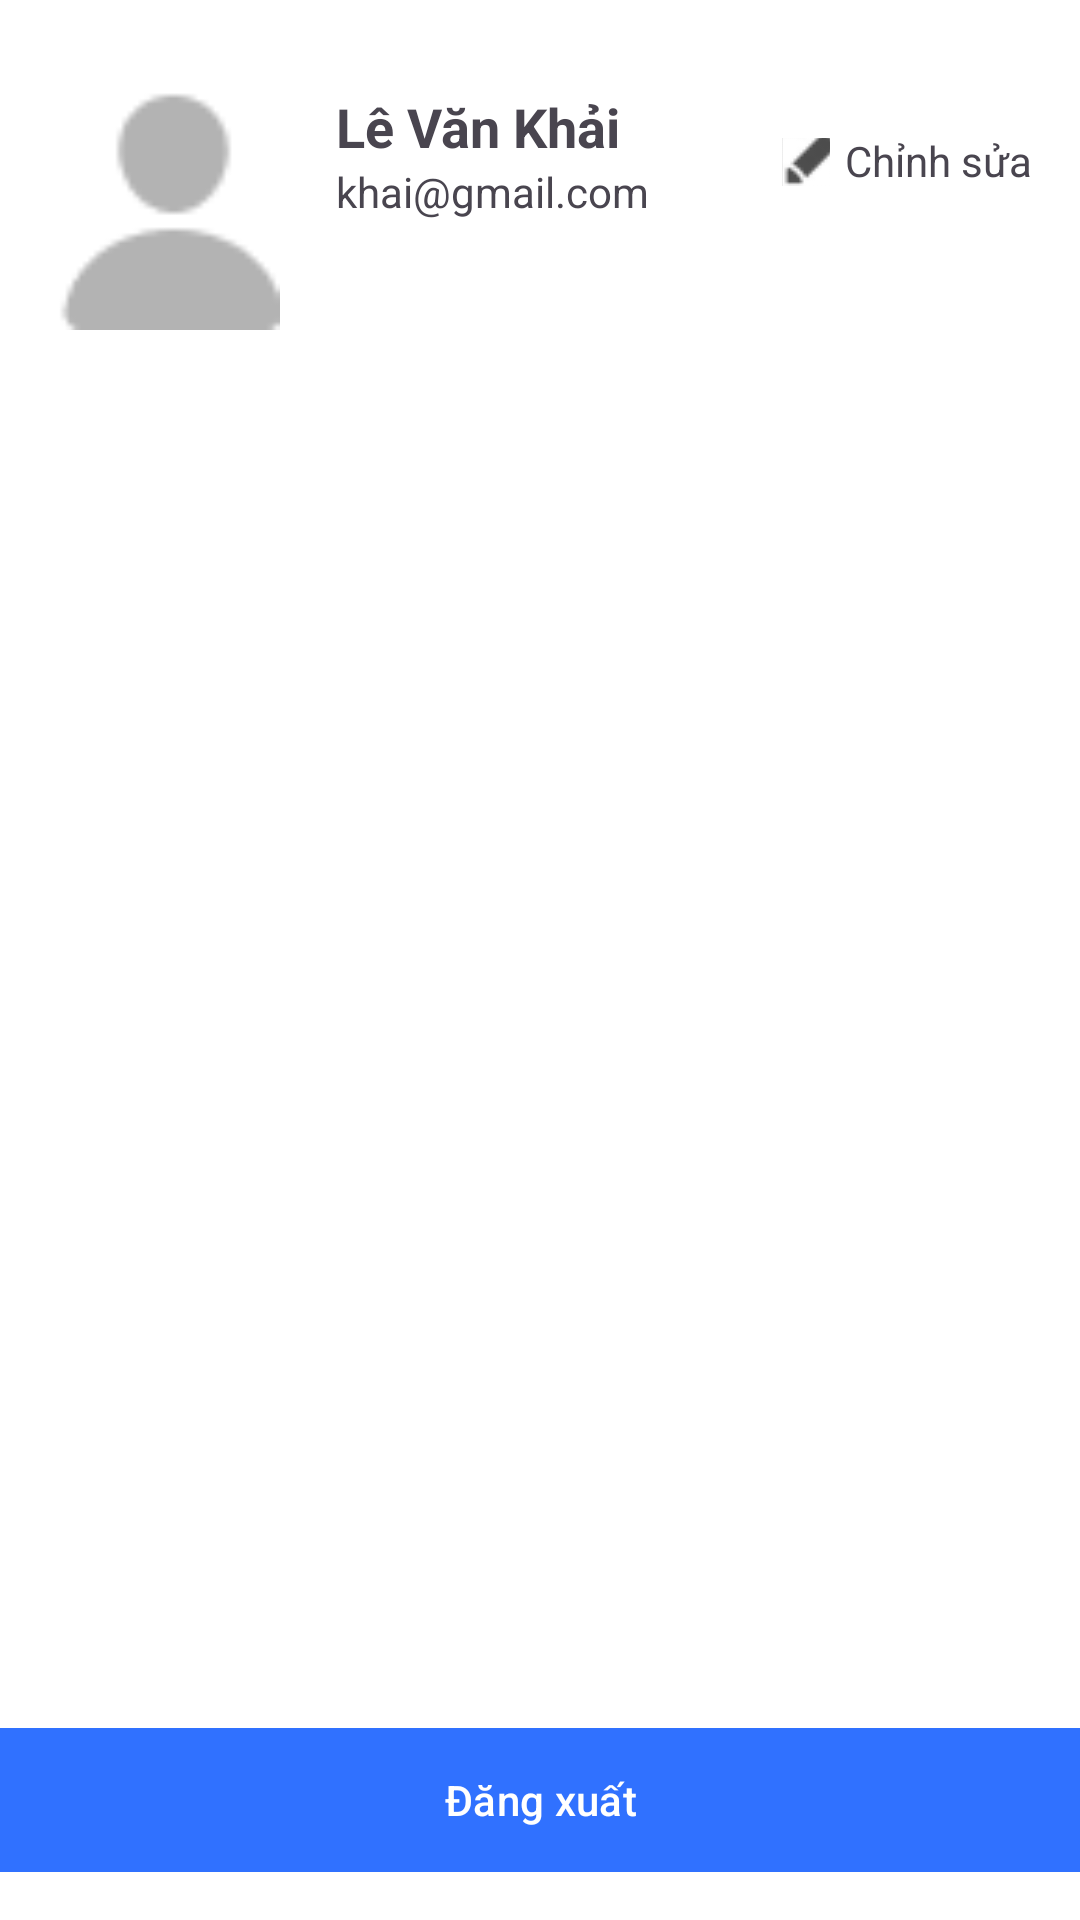

Icon click points for this 1080×1920 phone screenshot, format (x=x, y=y):
edit: (x=807, y=161)
profile: (x=171, y=212)
